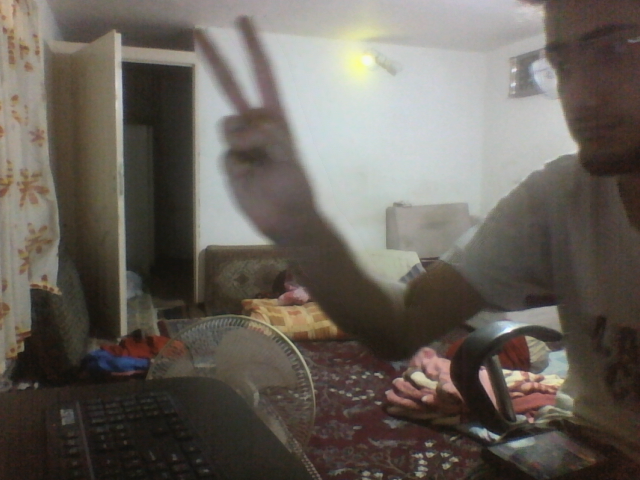Azadi: (192, 15, 312, 241)
sorat: (531, 2, 640, 178)
